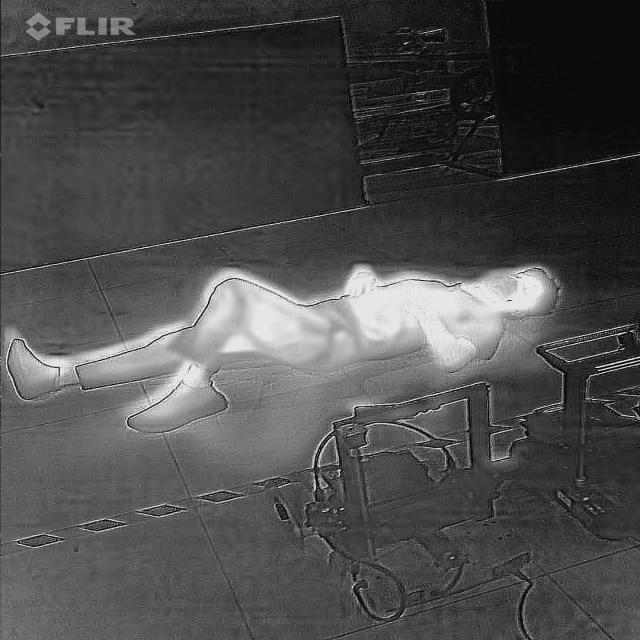Victim: (0, 252, 572, 439)
